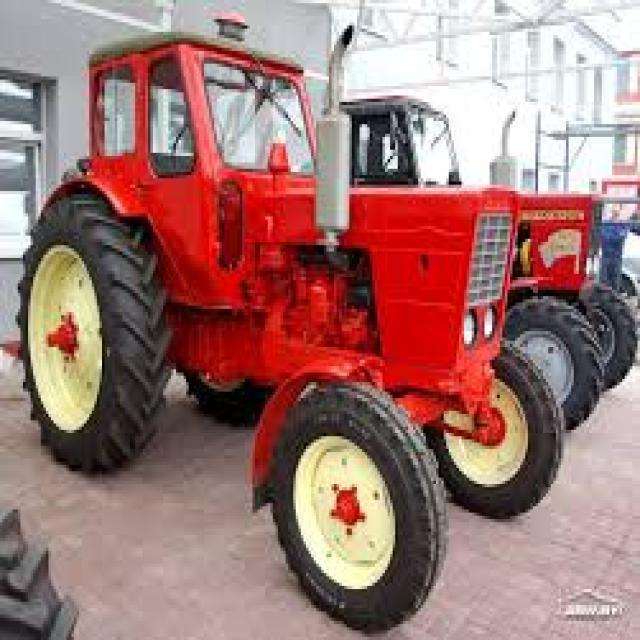Tratores - v5 YOLO V8L 2024-11-13: (38, 19, 566, 640), (315, 82, 640, 424)
